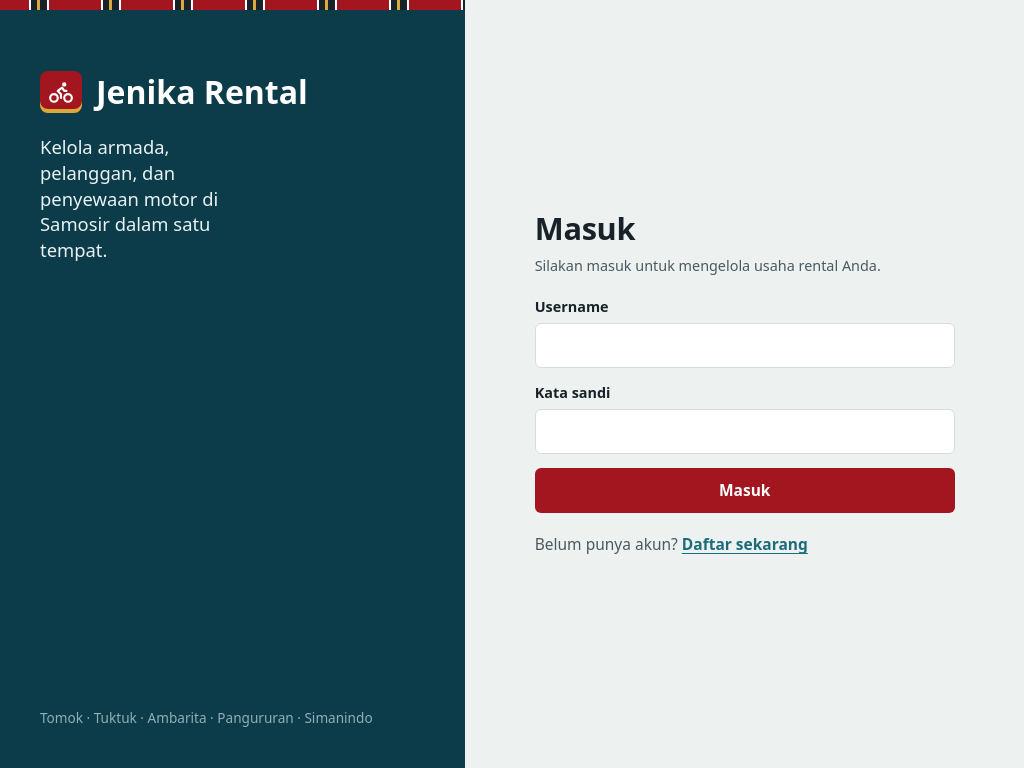
Test: Login › validasi: kolom kosong tidak mengirim request
This screenshot has width=1024, height=768.
Click the button "Masuk": click(745, 491) [535,468,955,513]
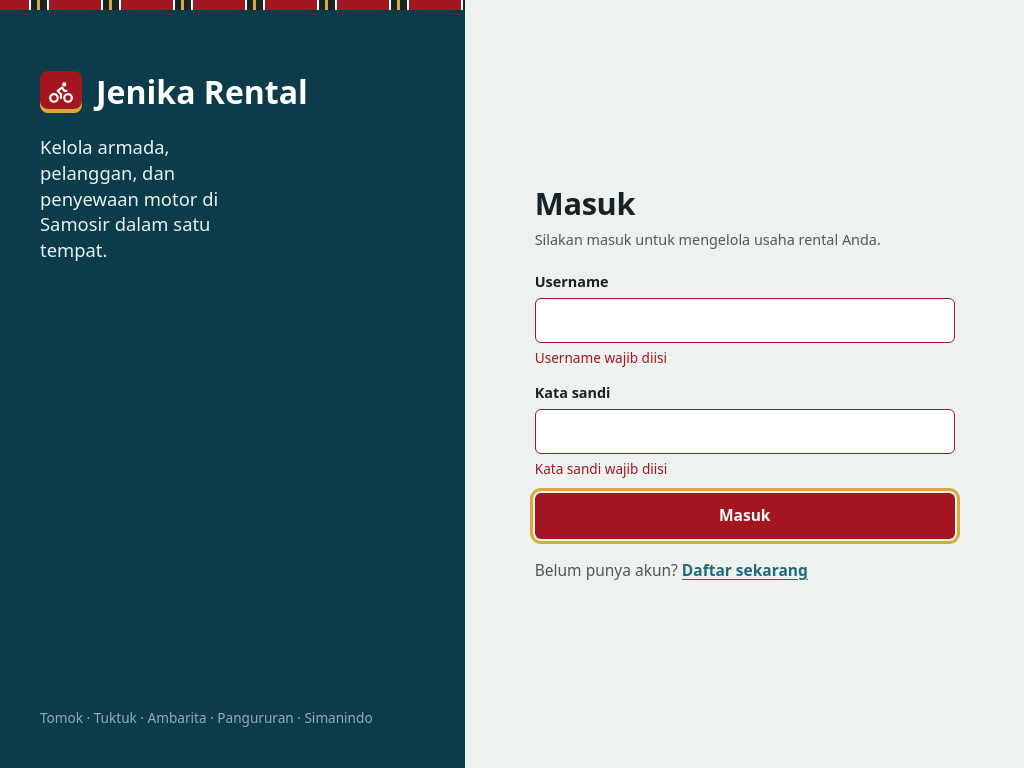
Check: the text "Username wajib diisi" is shown, box [535,348,667,367]
